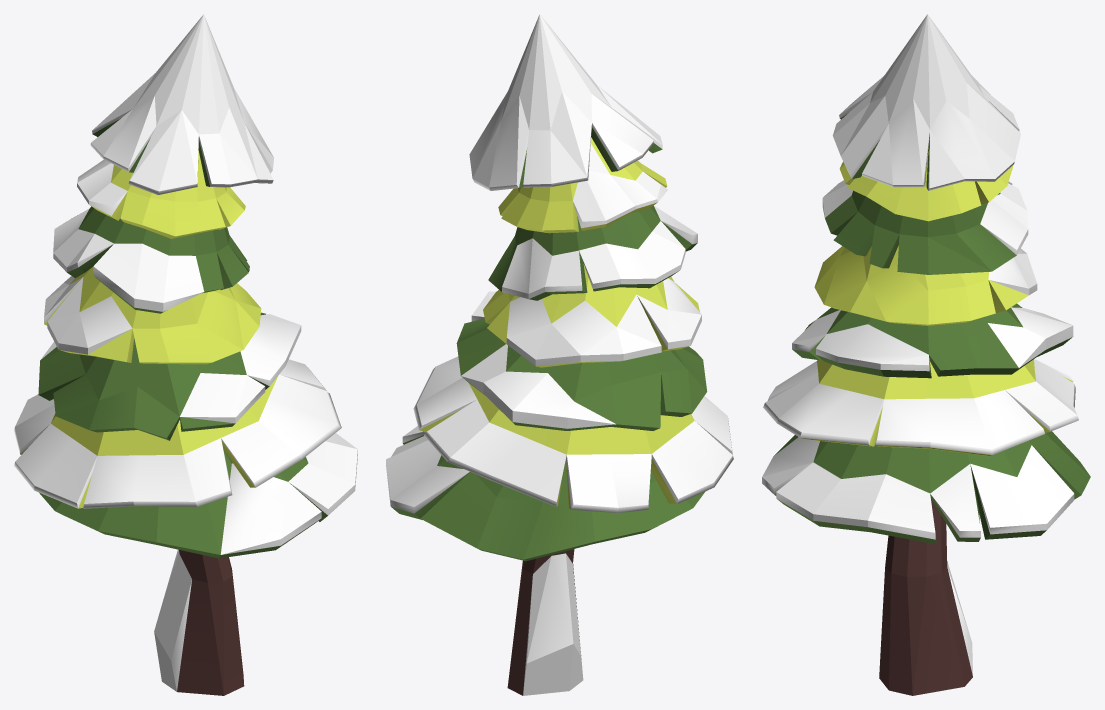
The model's file is Conifer Tree_3 Snow.fbx.
3 views of the same model, side by side, from view 1: azimuth 30°, elevation 25°; view 2: azimuth 150°, elevation 25°; view 3: azimuth 270°, elevation 25° (orthographic).
Parts seen in each view (by area): view 1: Conifer Tree_3 Snow; view 2: Conifer Tree_3 Snow; view 3: Conifer Tree_3 Snow.
Boxes of the visible parts, x1,y1,x2,y2 form: Conifer Tree_3 Snow: (14, 14, 357, 695); Conifer Tree_3 Snow: (386, 14, 733, 695); Conifer Tree_3 Snow: (762, 14, 1090, 695).
Bounding box in the file's own units: 2.7 × 5.62 × 2.51.
